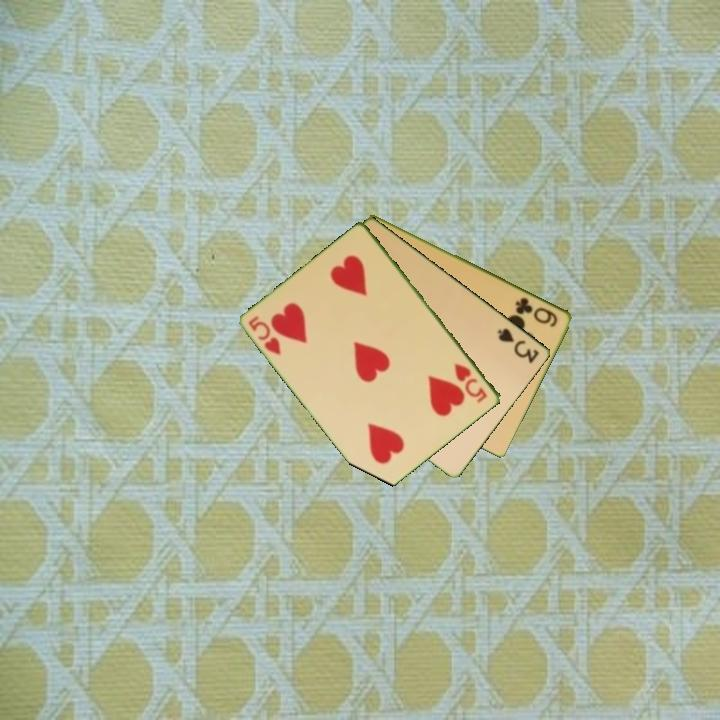3s: (494, 324, 542, 366)
5h: (451, 360, 490, 406), (245, 312, 284, 358)
6c: (512, 294, 561, 330)
